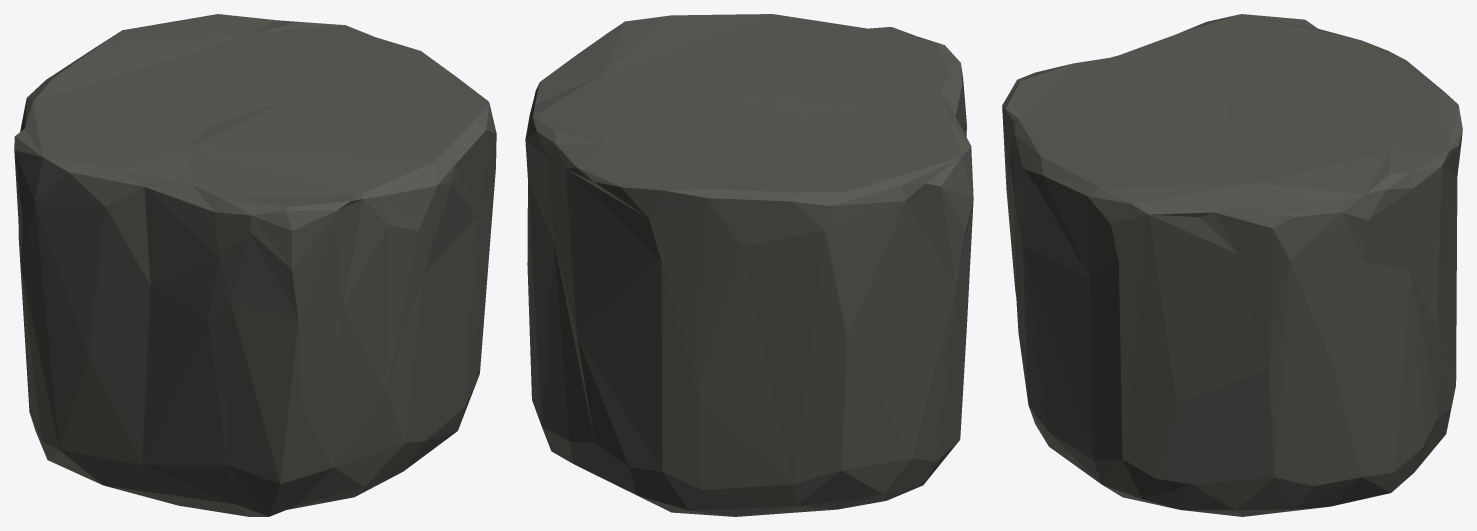
The model's file is SM_Env_Rock_Cliff_03.fbx.
The picture shows the model from 3 angles, left to right: view 1: azimuth 30°, elevation 25°; view 2: azimuth 150°, elevation 25°; view 3: azimuth 270°, elevation 25°; orthographic projection.
Parts seen in each view (by area): view 1: SM_Env_Rock_Cliff_03; view 2: SM_Env_Rock_Cliff_03; view 3: SM_Env_Rock_Cliff_03.
Part boxes in pixels (x1,y1,x2,y2): SM_Env_Rock_Cliff_03: [14, 14, 496, 516]; SM_Env_Rock_Cliff_03: [525, 14, 973, 516]; SM_Env_Rock_Cliff_03: [1002, 14, 1462, 516].
Bounding box in the file's own units: 1070 × 849 × 1027.
Materials: 1 (1 with a texture image).
